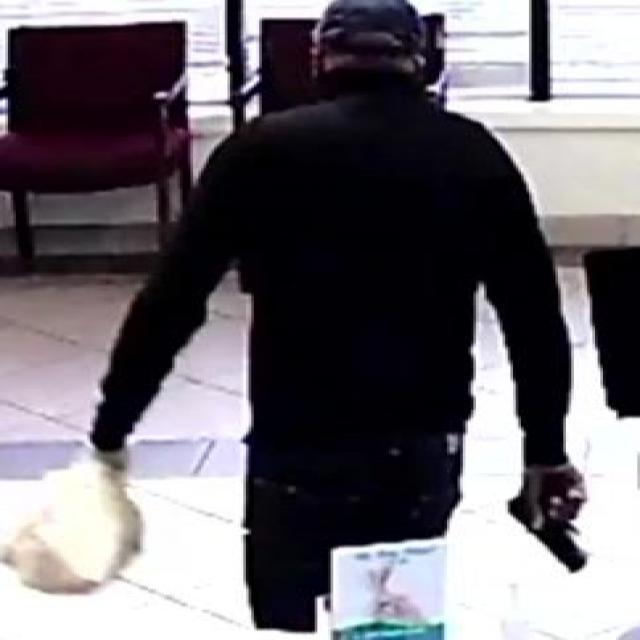Gun: (494, 461, 590, 573)
